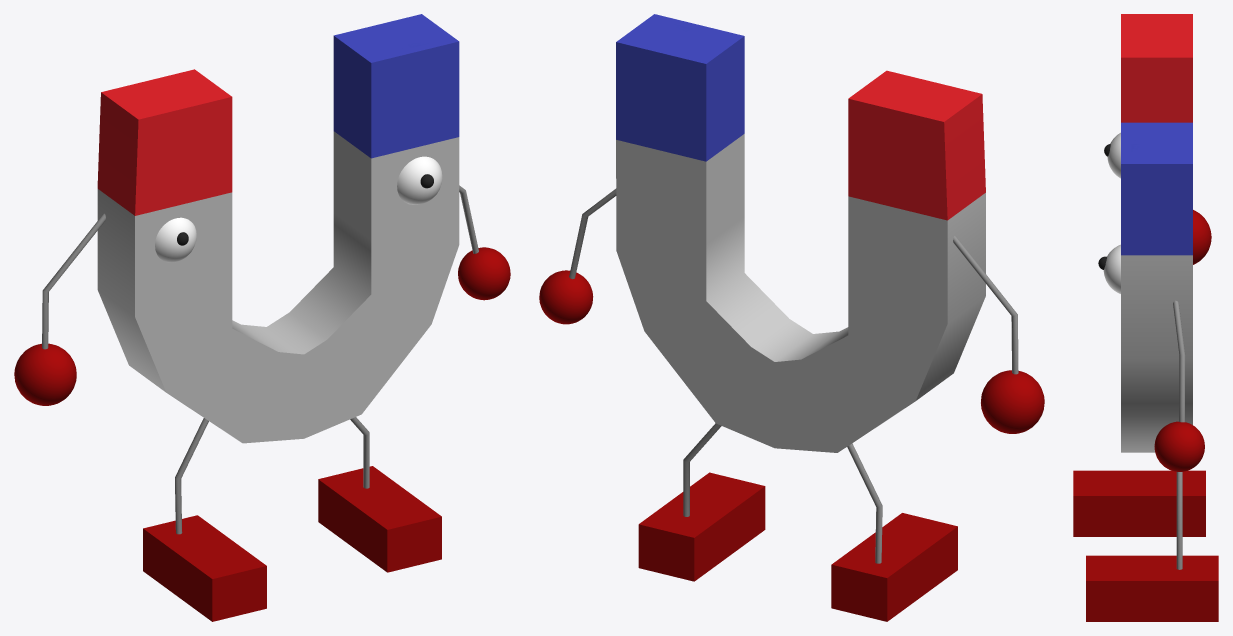
Rendered from Player(front).FBX.
3 views of the same model, side by side, from view 1: azimuth 30°, elevation 25°; view 2: azimuth 150°, elevation 25°; view 3: azimuth 270°, elevation 25° (orthographic). The views are drawn at different scales.
Parts seen in each view (by area): view 1: Box001, Box002, Box003, Sphere001, Sphere002, Sphere004, Sphere003, Line005, Line003; view 2: Box001, Box003, Box002, Sphere001, Sphere002, Line005, Line003, Line004, Line006; view 3: Box001, Box003, Box002, Sphere002, Line006, Sphere001, Line004, Sphere004, Sphere003.
Boxes of the visible parts, box(x1,y1,x2,y2) form: Box001: box(97, 14, 459, 443); Box002: box(143, 515, 266, 621); Box003: box(318, 466, 441, 572); Sphere001: box(14, 343, 76, 405); Sphere002: box(458, 247, 510, 300); Sphere004: box(397, 156, 442, 204); Sphere003: box(155, 217, 196, 262); Line005: box(42, 213, 105, 349); Line003: box(175, 418, 208, 534); Box001: box(616, 14, 985, 452); Box003: box(638, 472, 765, 581); Box002: box(831, 513, 957, 621); Sphere001: box(981, 370, 1044, 433); Sphere002: box(539, 270, 593, 324); Line005: box(953, 235, 1018, 374); Line003: box(847, 443, 882, 563); Line004: box(683, 423, 721, 516); Line006: box(569, 188, 616, 279); Box001: box(1121, 14, 1192, 452); Box003: box(1086, 555, 1218, 621); Box002: box(1073, 470, 1205, 536); Sphere002: box(1154, 421, 1204, 471); Line006: box(1173, 300, 1185, 422); Sphere001: box(1193, 210, 1211, 264); Line004: box(1176, 472, 1182, 569); Sphere004: box(1103, 244, 1120, 293); Sphere003: box(1107, 132, 1120, 178).
Size of the model in its own units: 103 by 27.81 by 100.
